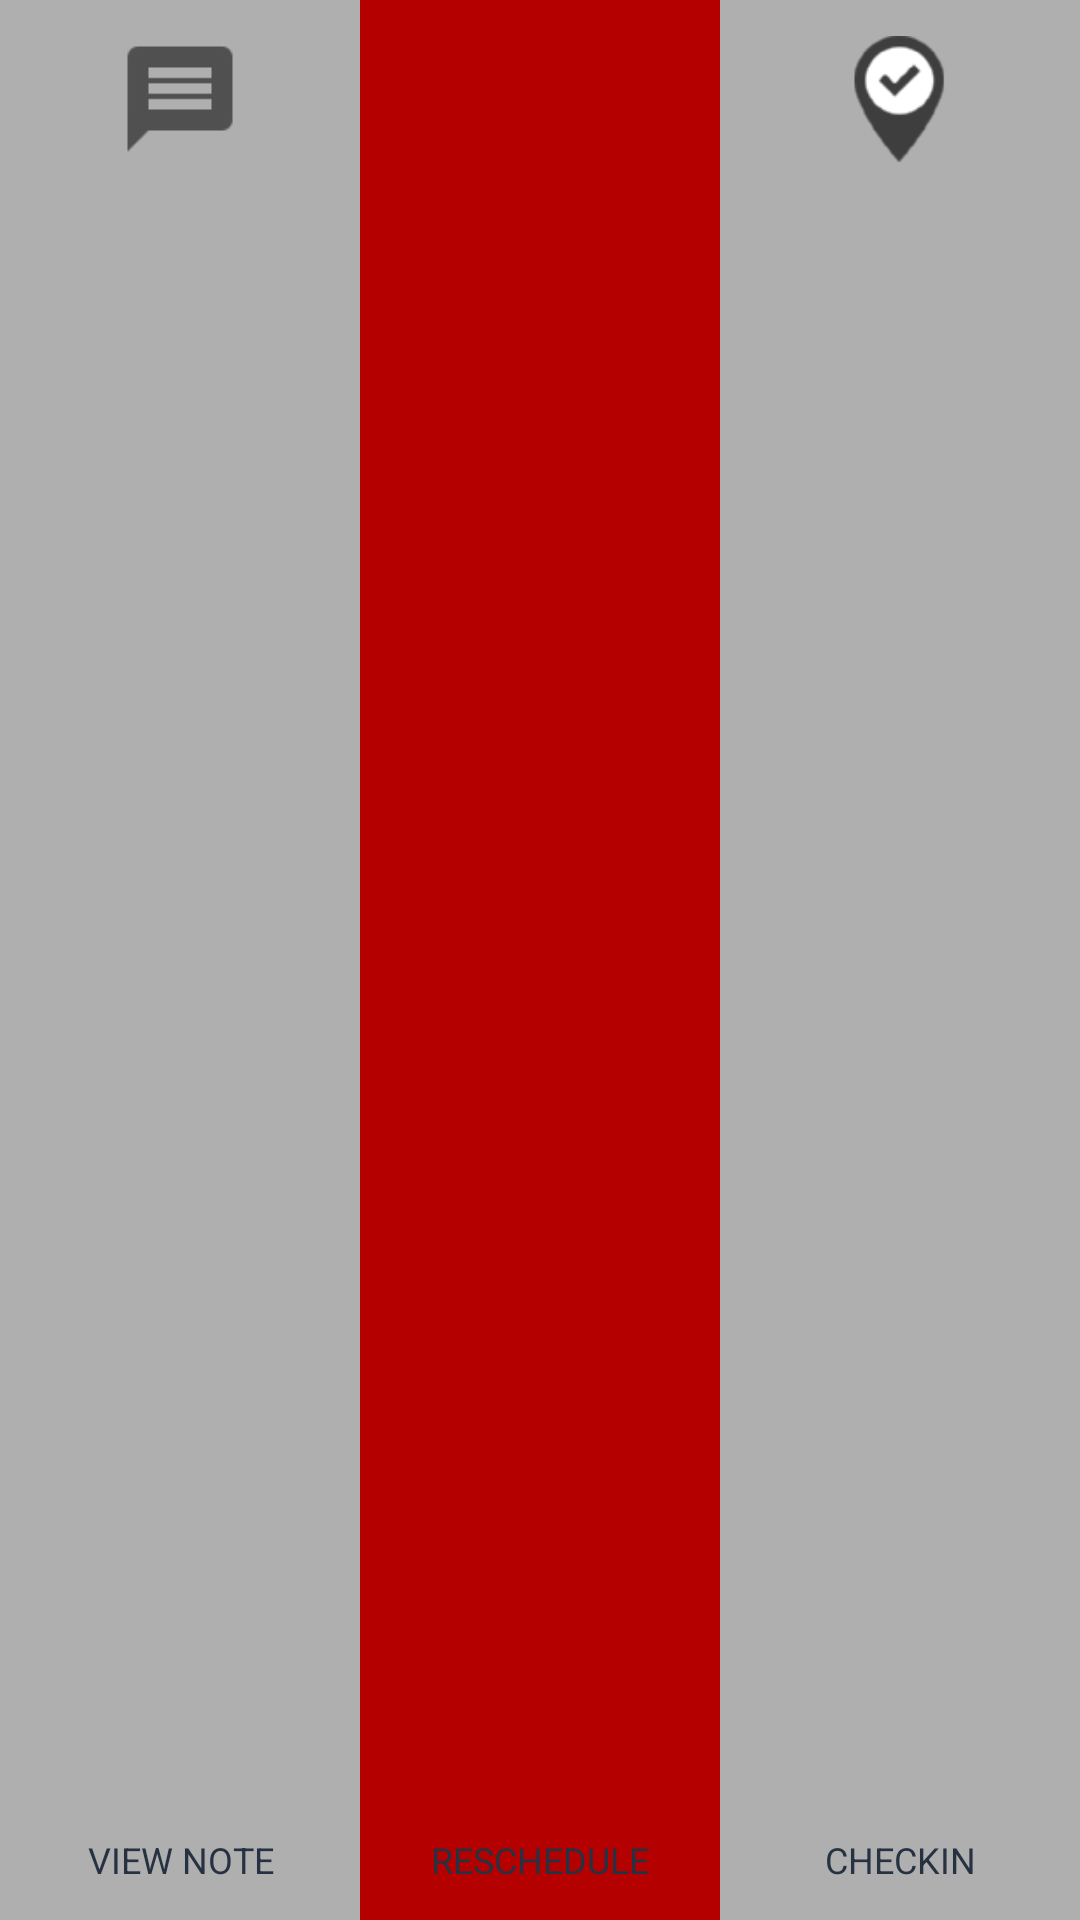

Screen size 1080px x 1920px. Icon name, then its center in pixels as (x=x, y=y):
checkin gs: (x=899, y=99)
message: (x=180, y=98)
